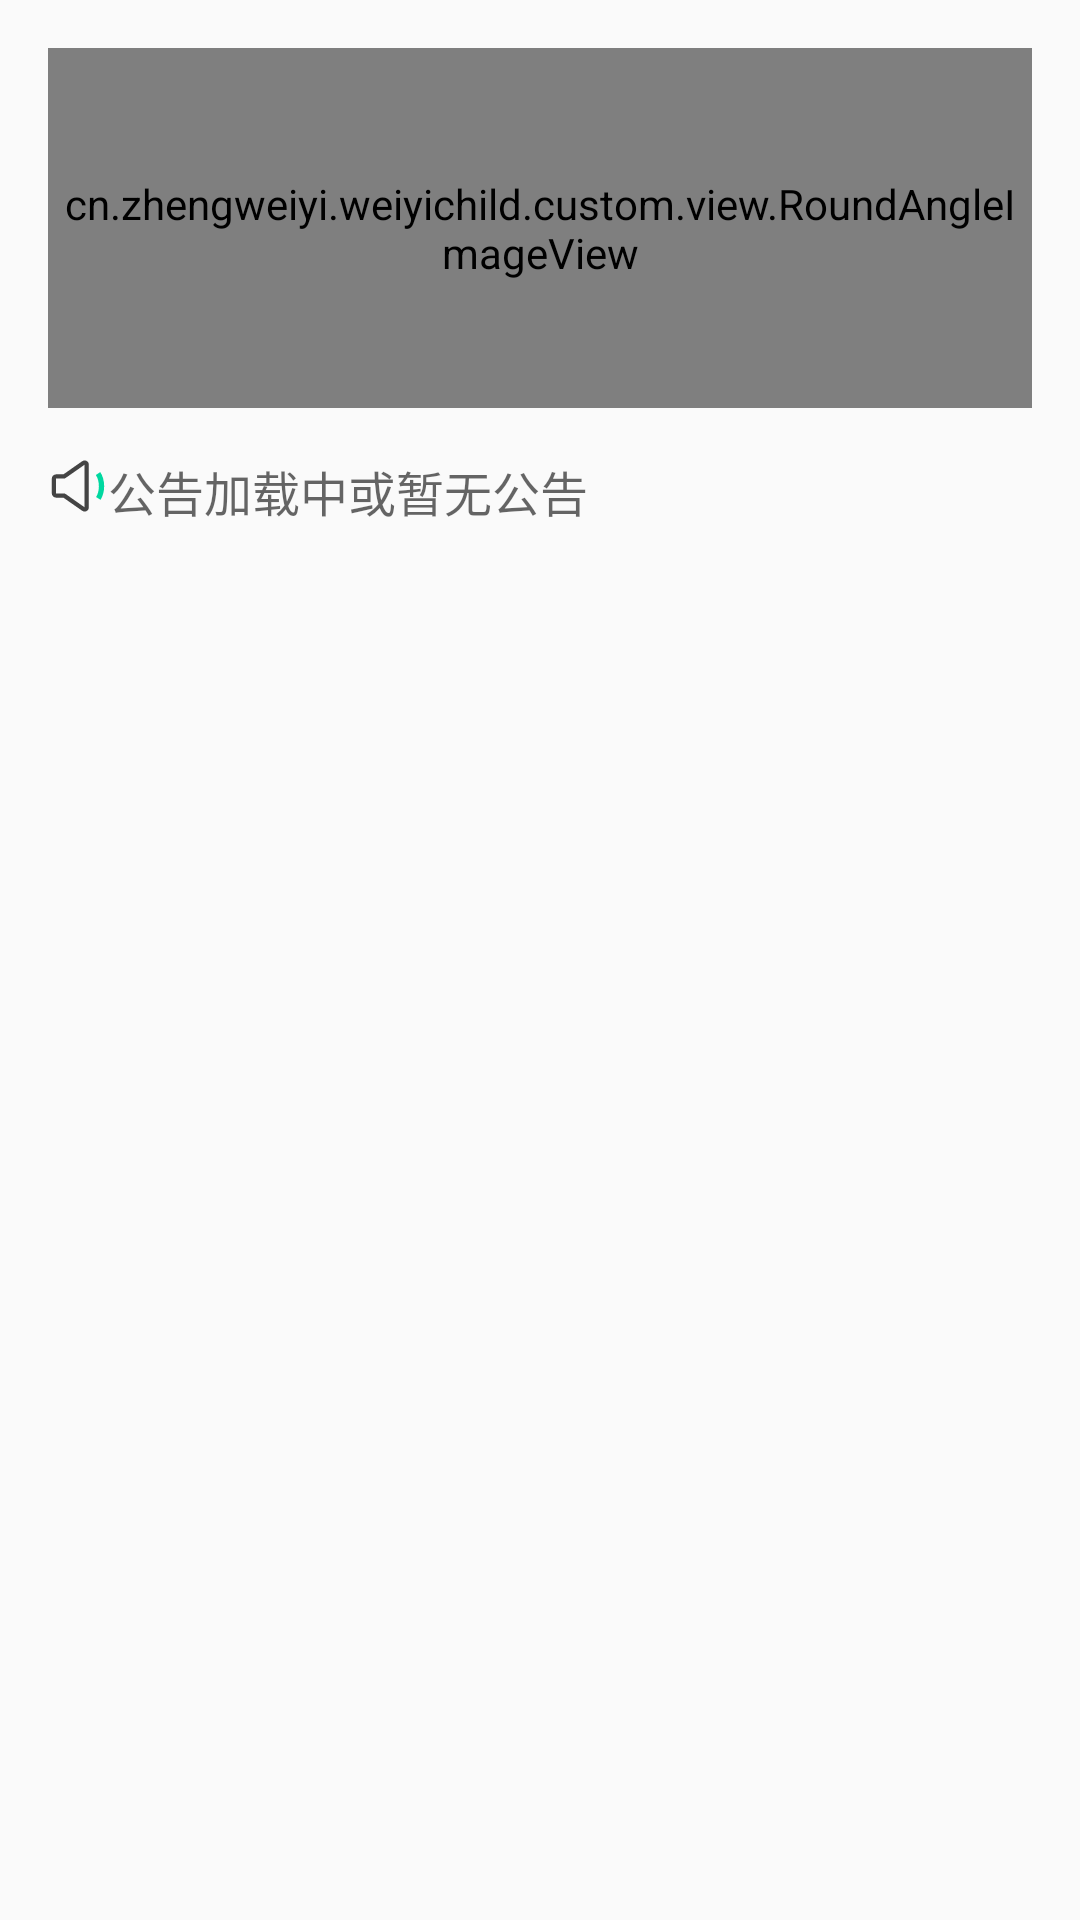

Icon click points for this 1080 × 1920 phone screenshot, format (x=x, y=y):
公告图标: (x=78, y=486)
